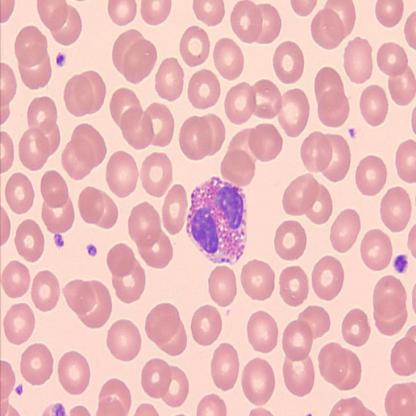Eosinophil: (184, 174, 251, 266)
